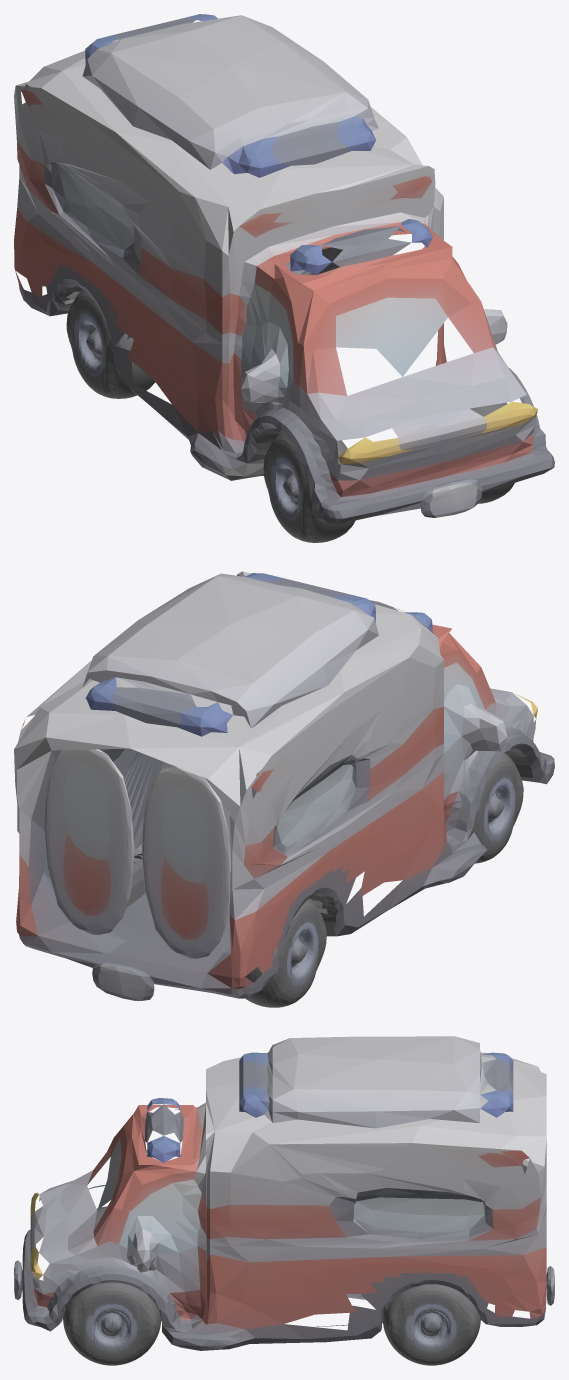
Rendered from ambulance.glb.
3 renders of one model, top to bottom at view 1: azimuth 30°, elevation 25°; view 2: azimuth 150°, elevation 25°; view 3: azimuth 270°, elevation 25°, orthographic. The views are drawn at different scales.
Size of the model in its own units: 0.3845 by 0.4602 by 0.833.
